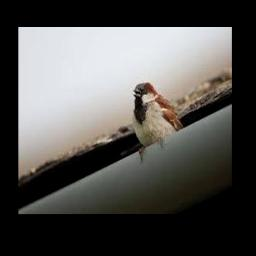Sparrow: (132, 83, 184, 159)
